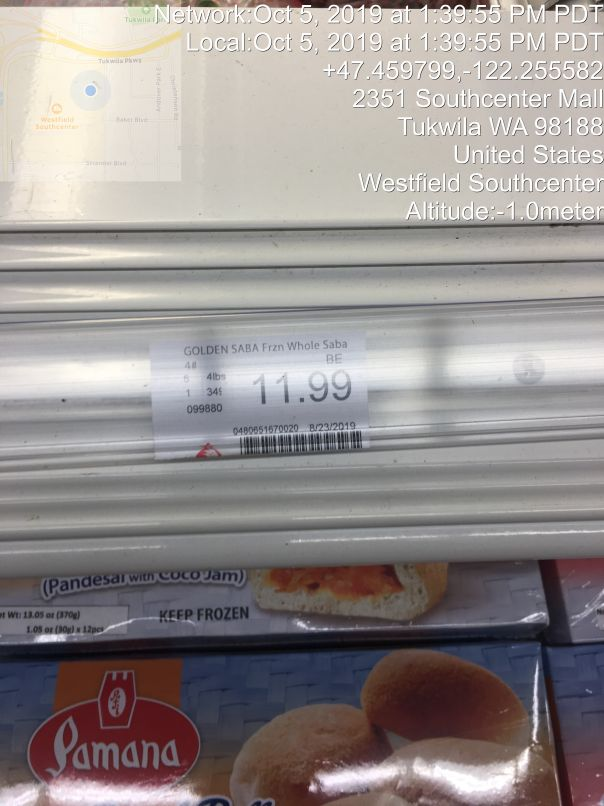Label: (138, 316, 385, 471)
Location: (347, 77, 604, 200)
Time: (142, 1, 604, 61)
Void: (28, 25, 347, 290)
